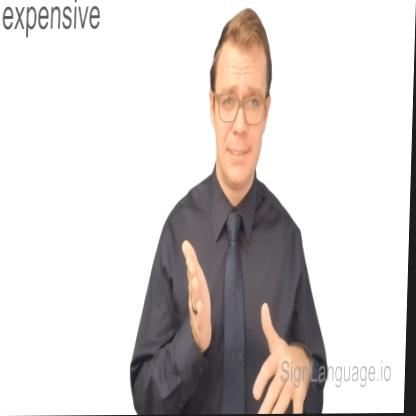Expensive: (179, 238, 324, 414)
